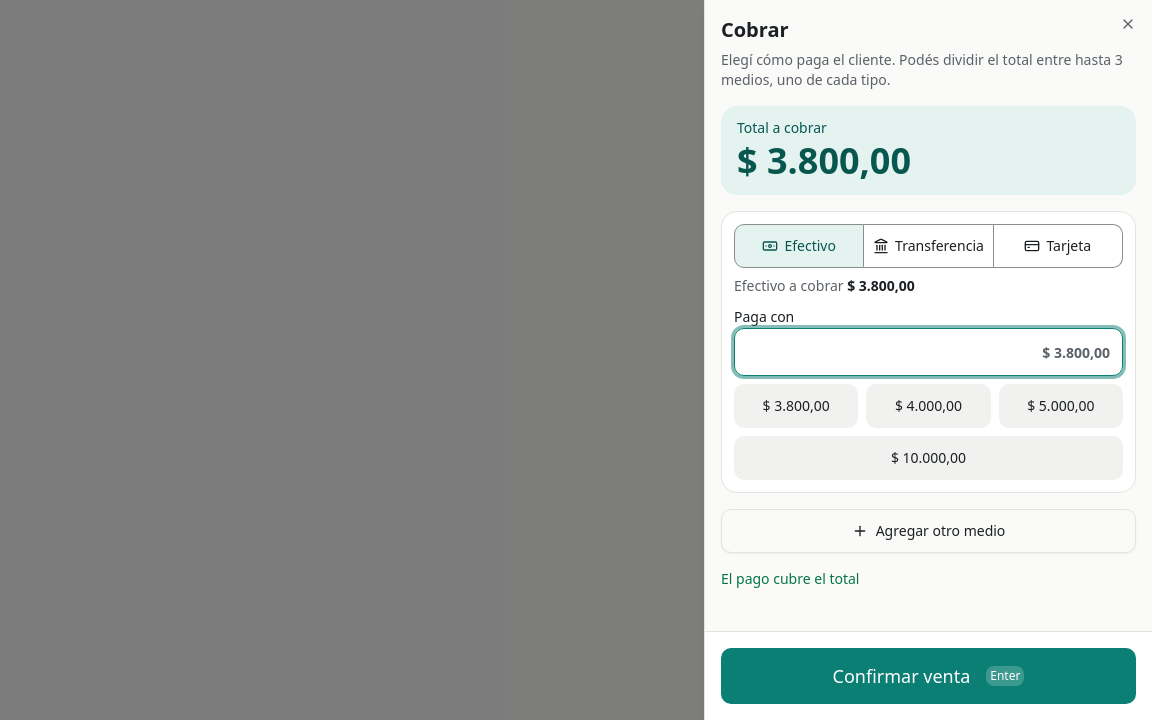
Scenario: CheckoutSheet: pagos › con los otros medios justo en el total el efectivo derivado es 0 y tampoco se confirma
expect the field labelled "Paga con" is shown: met, box [734, 328, 1123, 376]
Click the button "Agregar otro medio" at (928, 531), box [721, 509, 1136, 553]
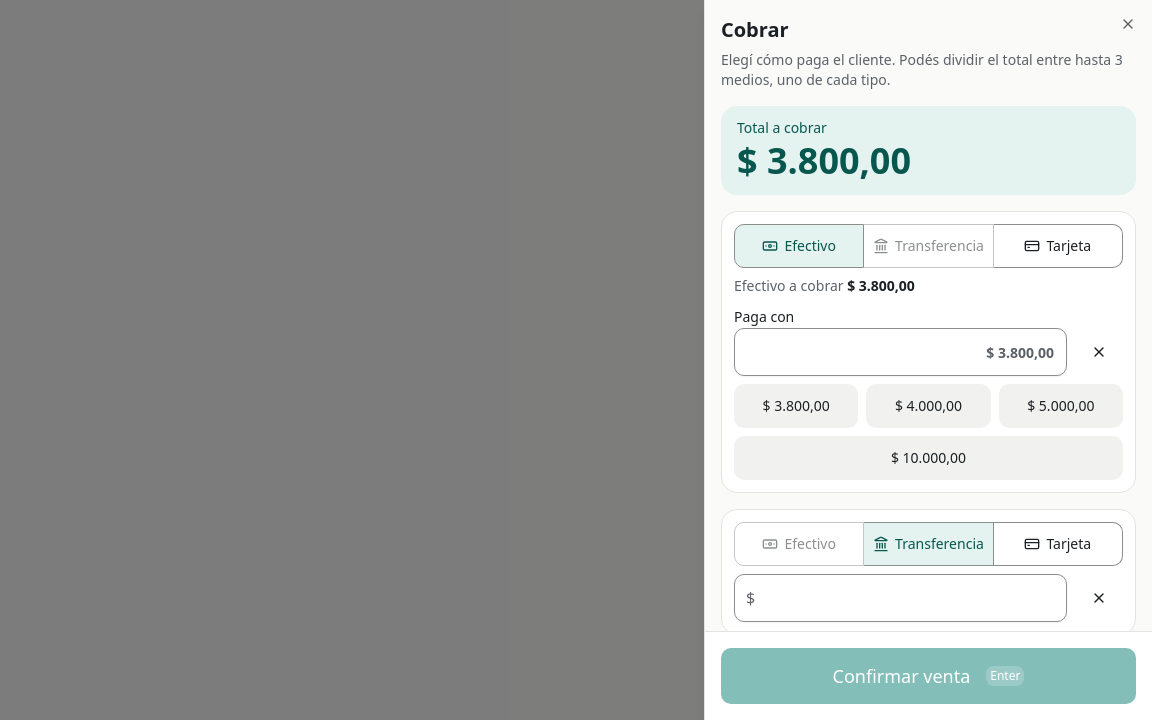
Type "3800" into the field named "monto transferencia" at (900, 598), box [734, 574, 1067, 622]
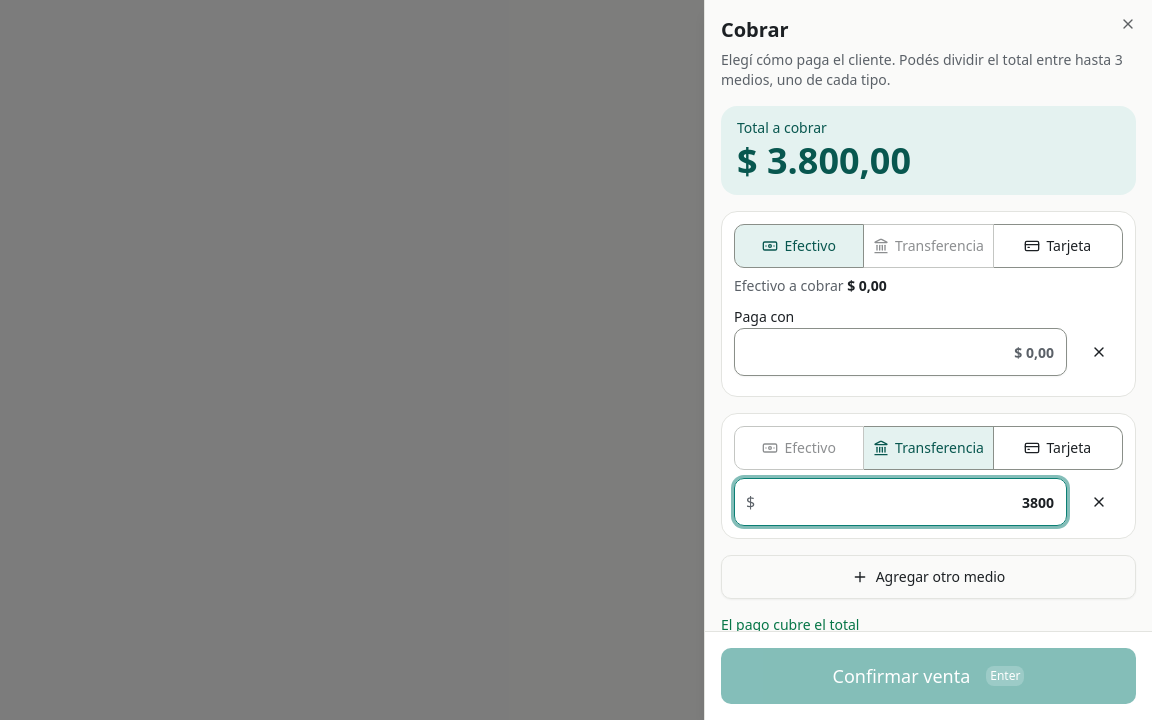
expect the button "Confirmar venta Enter" is disabled: met, box [721, 648, 1136, 704]
expect the text "Efectivo a cobrar $ 0,00" is shown: met, box [734, 276, 887, 295]
